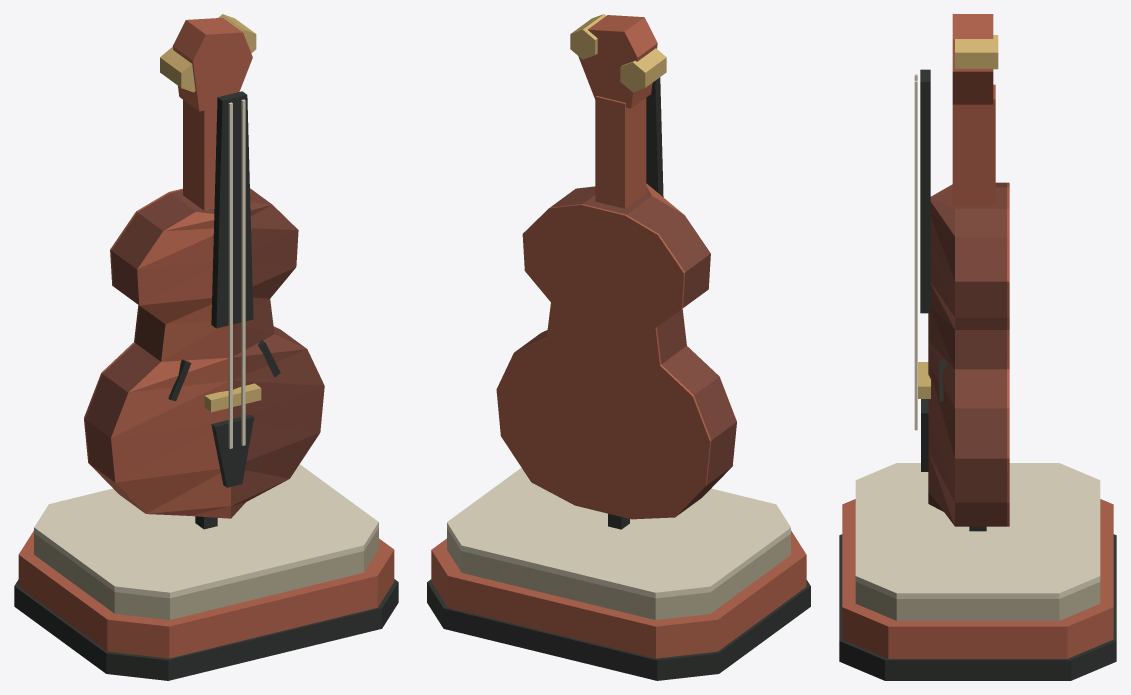
File: bass.glb
The picture shows the model from 3 angles, left to right: view 1: azimuth 30°, elevation 25°; view 2: azimuth 150°, elevation 25°; view 3: azimuth 270°, elevation 25°; orthographic projection.
Visible parts, largest first — view 1: Upright bass; view 2: Upright bass; view 3: Upright bass.
Part boxes in pixels (x1,y1,x2,y2): Upright bass: [14, 14, 398, 680]; Upright bass: [427, 14, 810, 680]; Upright bass: [839, 14, 1116, 680].
Size of the model in its own units: 1.34 by 2.55 by 1.09.
